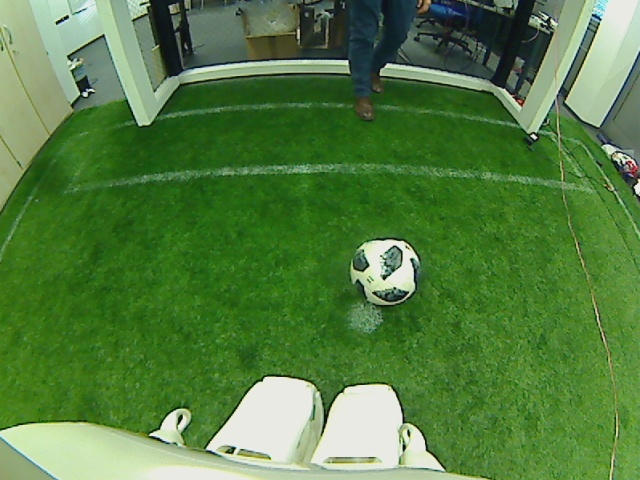ball: (347, 233, 422, 310)
